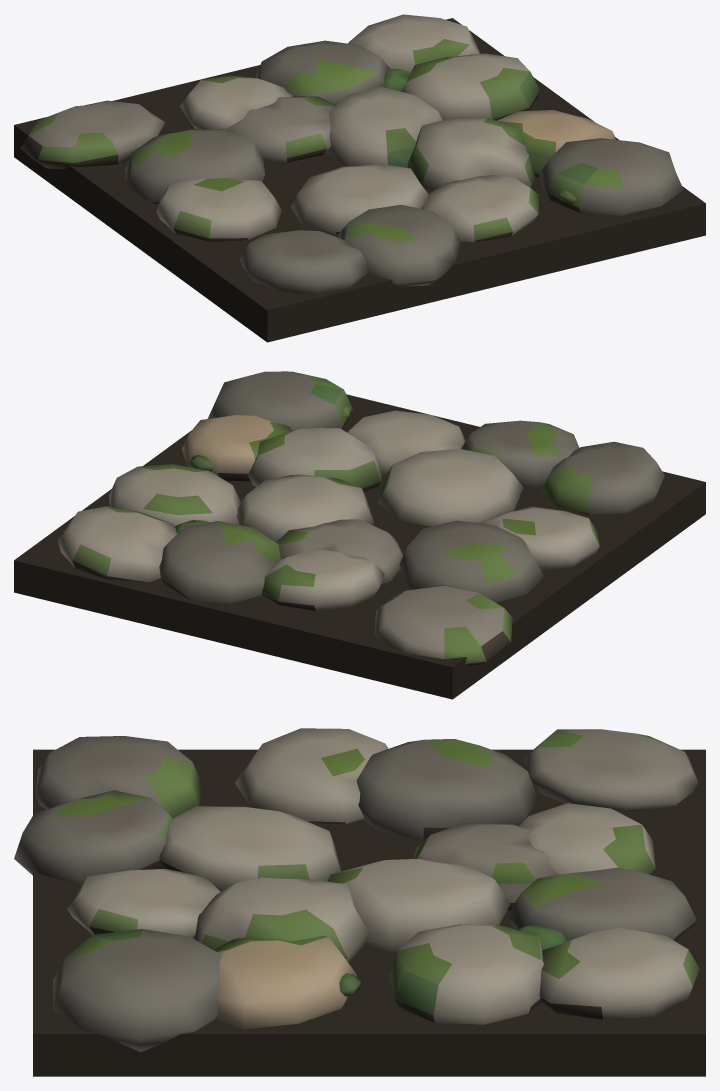
The model's file is kit_floor4.glb.
3 renders of one model, top to bottom at view 1: azimuth 30°, elevation 25°; view 2: azimuth 150°, elevation 25°; view 3: azimuth 270°, elevation 25°, orthographic. The views are drawn at different scales.
Visible parts, largest first — view 1: kit_floor4; view 2: kit_floor4; view 3: kit_floor4.
Part boxes in pixels (bbox=[...]): kit_floor4: bbox=[14, 14, 705, 342]; kit_floor4: bbox=[14, 371, 705, 699]; kit_floor4: bbox=[14, 728, 705, 1076].
Size of the model in its own units: 1.06 by 0.1469 by 1.03.
